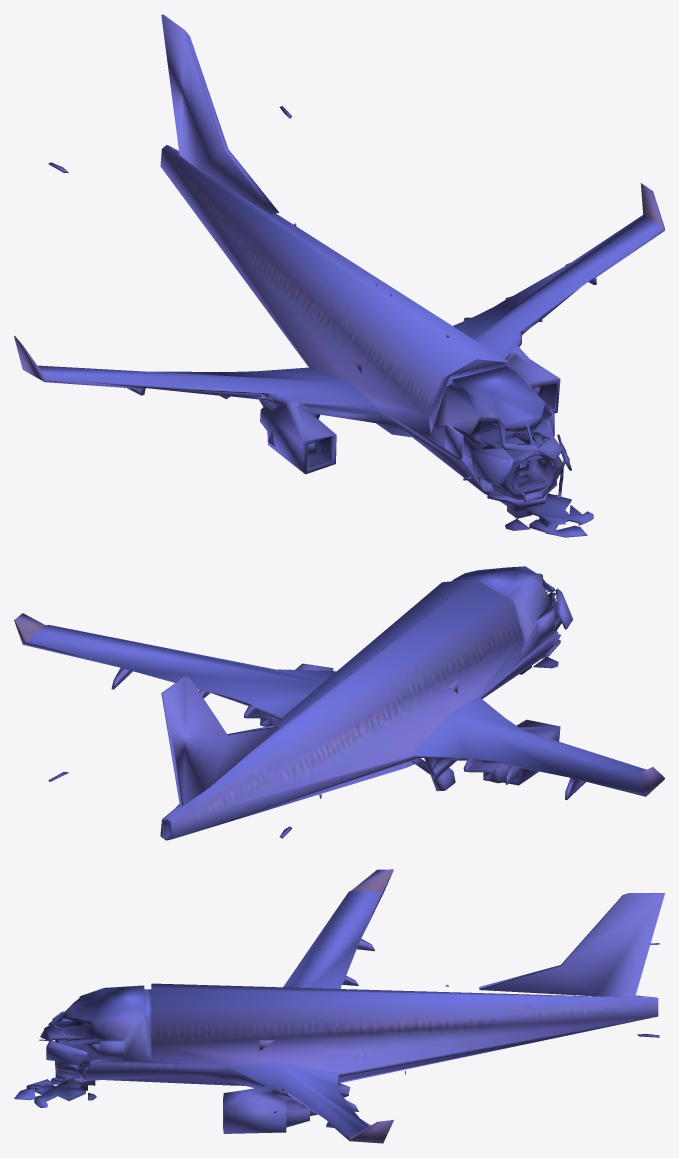
File: model.progressive.glb
3 renders of one model, top to bottom at view 1: azimuth 30°, elevation 25°; view 2: azimuth 150°, elevation 25°; view 3: azimuth 270°, elevation 25°, orthographic. The views are drawn at different scales.
Parts seen in each view (by area): view 1: material; view 2: material; view 3: material.
Part boxes in pixels (x1,y1,x2,y2): material: (14,14,664,537); material: (14,566,664,840); material: (14,869,664,1143).
Bounding box in the file's own units: 1.73 × 0.6249 × 1.89.
1 material, 1 textured.
